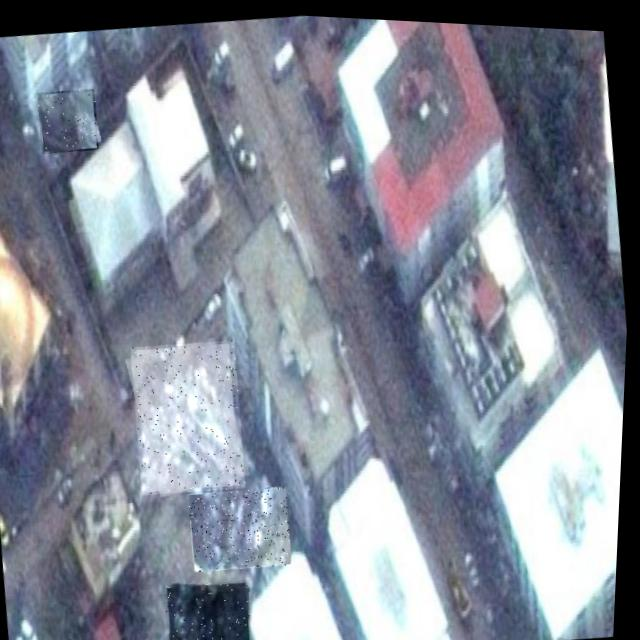Rubble: (128, 332, 255, 497), (189, 480, 300, 573), (167, 573, 261, 640), (36, 85, 102, 155)
